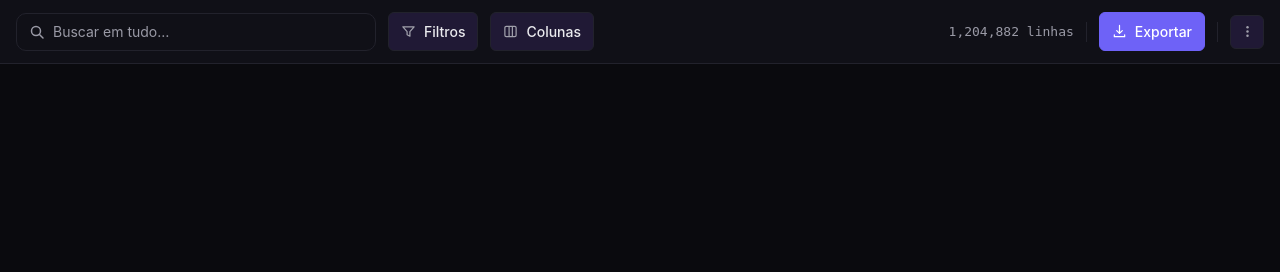
Test: ViewerToolbar › menu "Mais ações" (Salvar nova versão, Salvar, Comparar, Desfazer, Refazer) › RF-09: com canRedo true (e canUndo false), "Refazer" fica habilitado e "Desfazer" desabilitado
Click the button named "Mais ações" at (1247, 32), box [1230,14,1264,48]
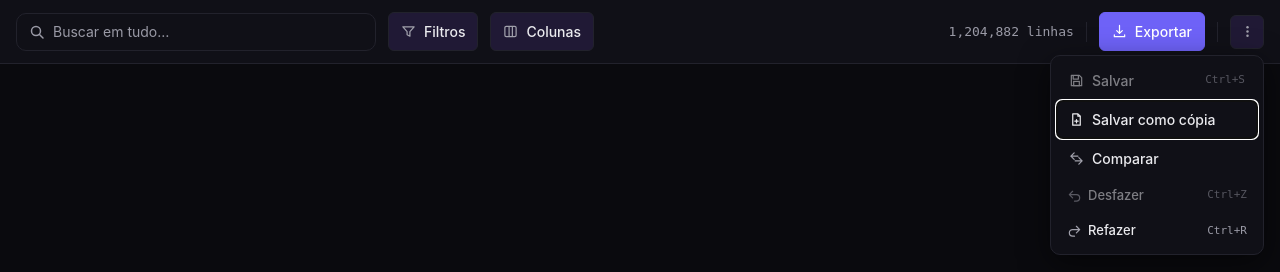
Expected: the button "Desfazer Ctrl+Z" is disabled, [1057,178,1257,212]
Expected: the button "Refazer Ctrl+R" is enabled, [1057,214,1257,248]
